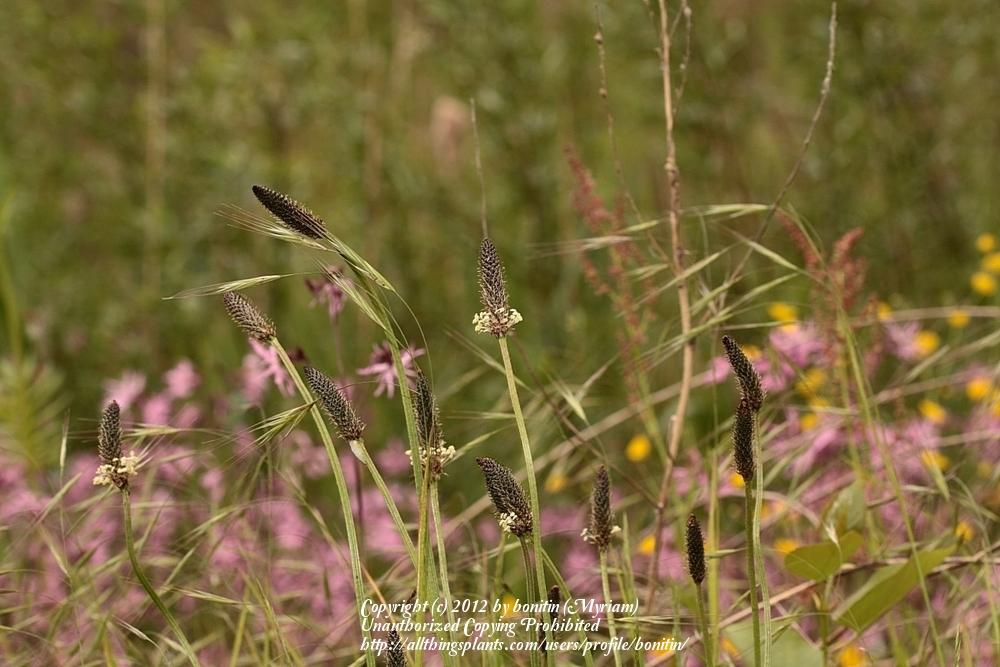buckhorn plantain: (201, 297, 629, 659), (655, 336, 796, 649), (453, 215, 562, 437), (237, 174, 382, 304)
